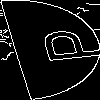P: (24, 25, 100, 66)
